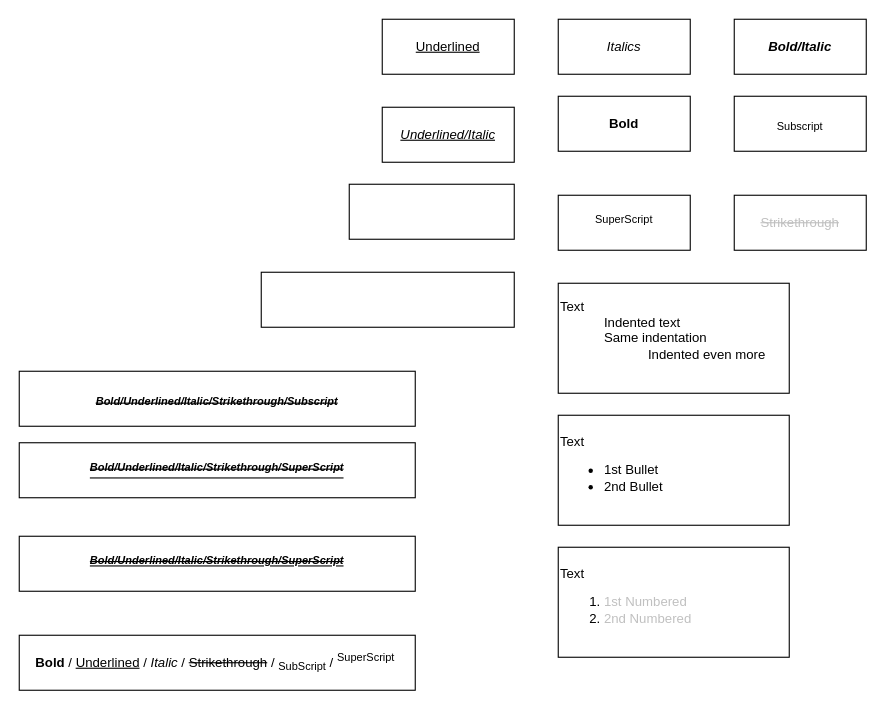
Image size: 886x710. Some labels were removed from this diagram. The shapes that lost their labels are listed below. From the top down, each one's centre as x and y in pixels, then its label:
At (x=431, y=211): "Bold/Underlined/Italic".
At (x=387, y=299): "Bold/Underlined/Italic/Strikethrough".
